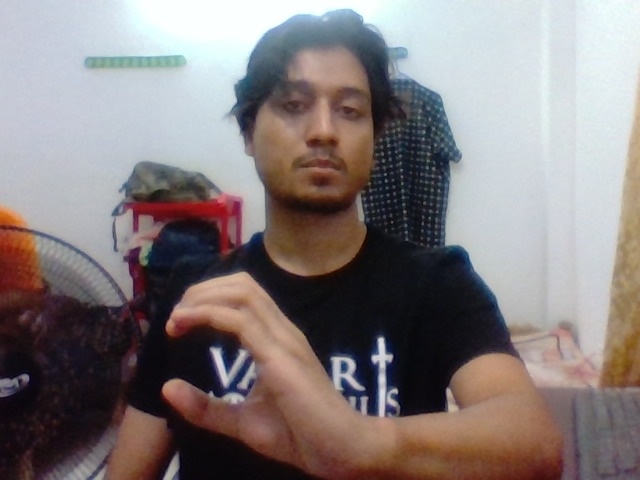C: (137, 248, 343, 469)
